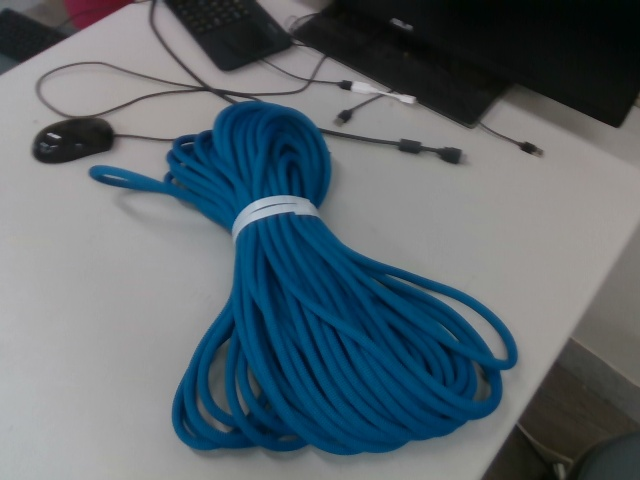rope: (84, 98, 521, 460)
